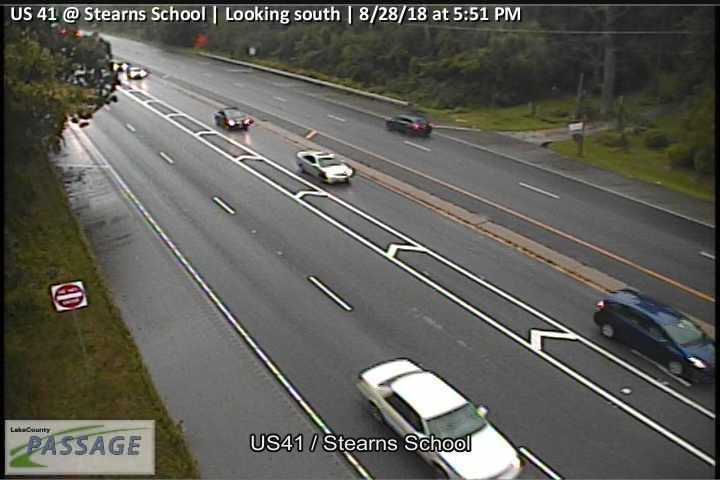SUV: (384, 111, 433, 139), (126, 65, 148, 80)
Sedan: (355, 356, 527, 480), (592, 287, 714, 382), (294, 149, 355, 185), (214, 105, 255, 131), (109, 59, 128, 72)
